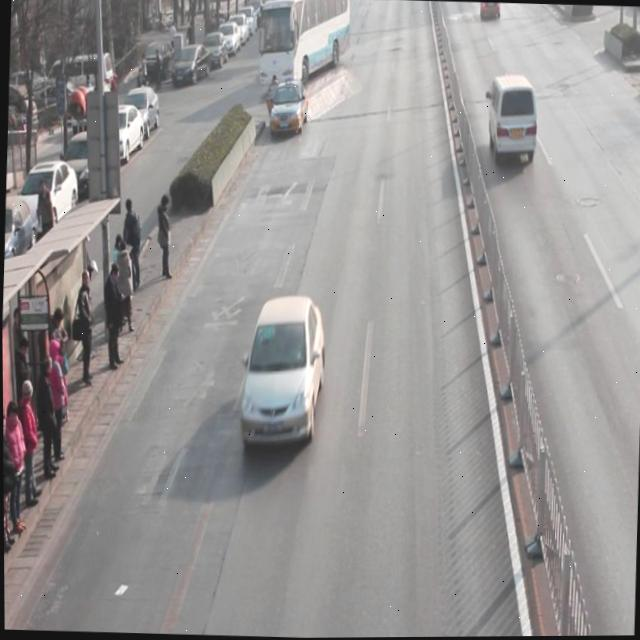car: (235, 295, 326, 450), (268, 79, 310, 138), (479, 2, 501, 23)
truck: (485, 74, 539, 166)
van: (255, 0, 351, 89)
